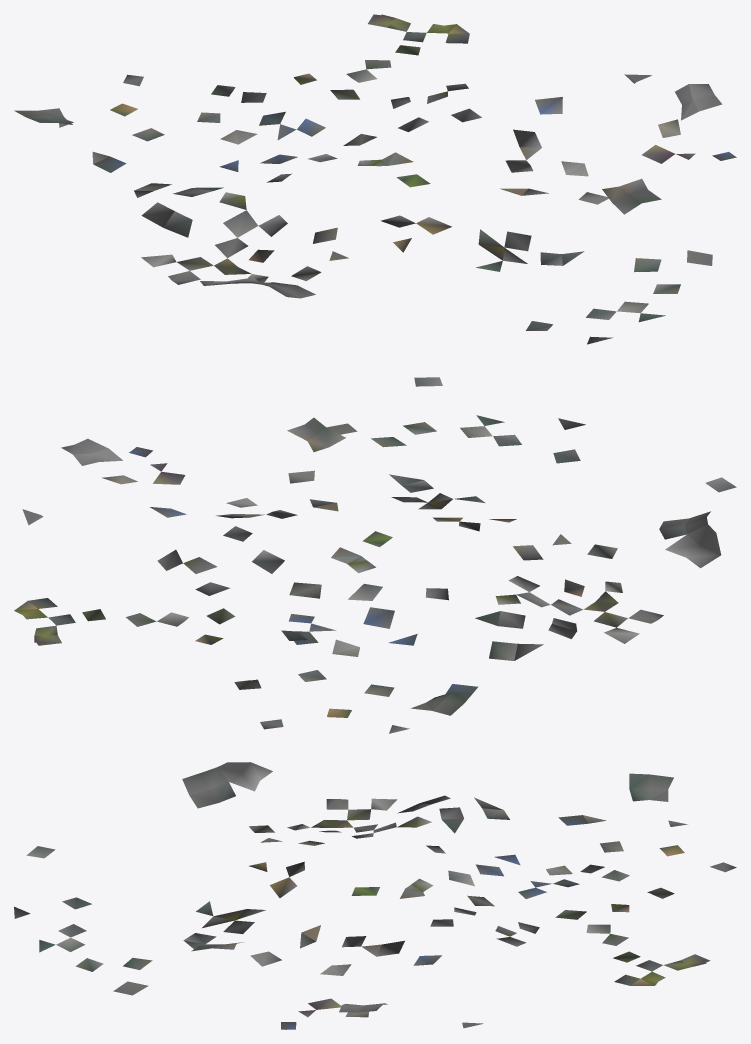
The picture shows the model from 3 angles, top to bottom: view 1: azimuth 30°, elevation 25°; view 2: azimuth 150°, elevation 25°; view 3: azimuth 270°, elevation 25°; orthographic projection. The views are drawn at different scales.
Visible parts, largest first — view 1: node-025AF8FD; view 2: node-025AF8FD; view 3: node-025AF8FD.
Part boxes in pixels (x1,y1,x2,y2): node-025AF8FD: (14,14,736,386); node-025AF8FD: (14,415,736,733); node-025AF8FD: (14,762,736,1029).
Bounding box in the file's own units: 134 × 12.43 × 157.
